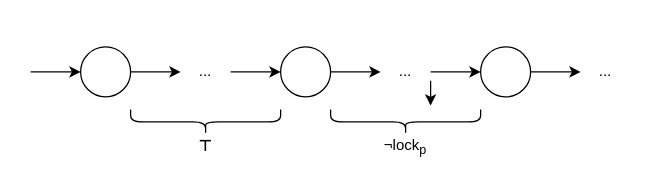
Some shapes in this 653 by 180 pixel diagram are drawn without their labels. Each missing label, with the centre of its shape:
"un lock p" goes at point (505, 71).
"unlock p" goes at point (305, 71).
